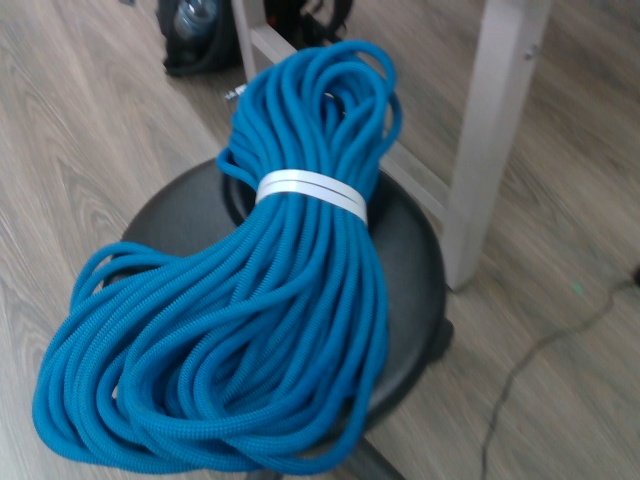rope: (27, 37, 412, 475)
